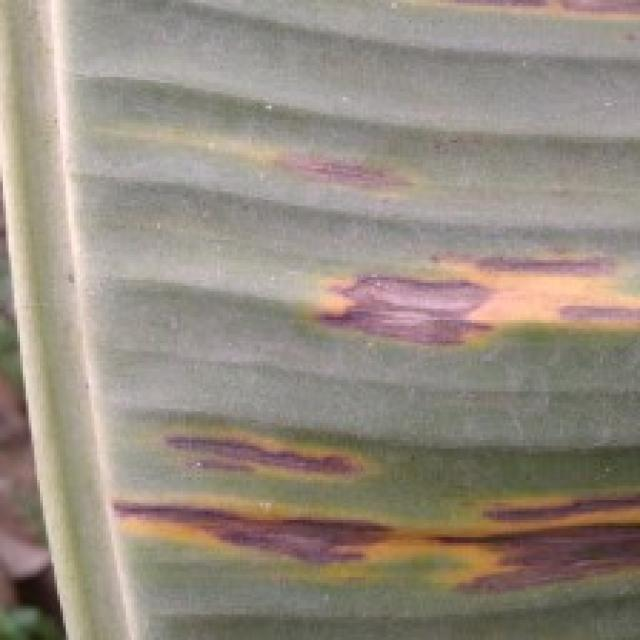Early_leaf_spot: (271, 240, 640, 370), (92, 478, 410, 594), (407, 472, 640, 622), (156, 405, 371, 484), (224, 126, 426, 201), (413, 0, 640, 46)
